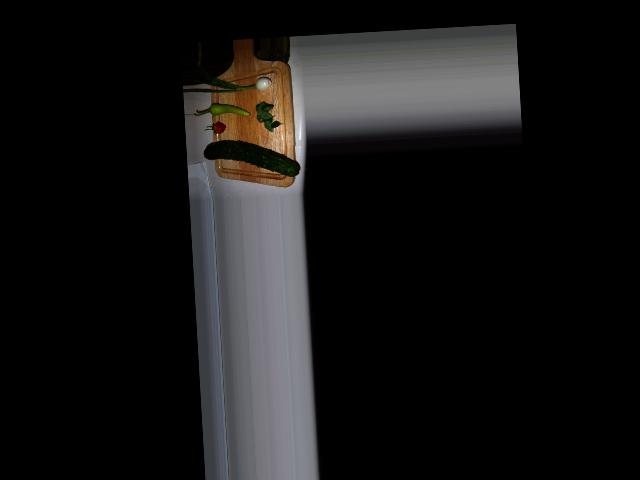cucumber: (203, 137, 299, 181)
